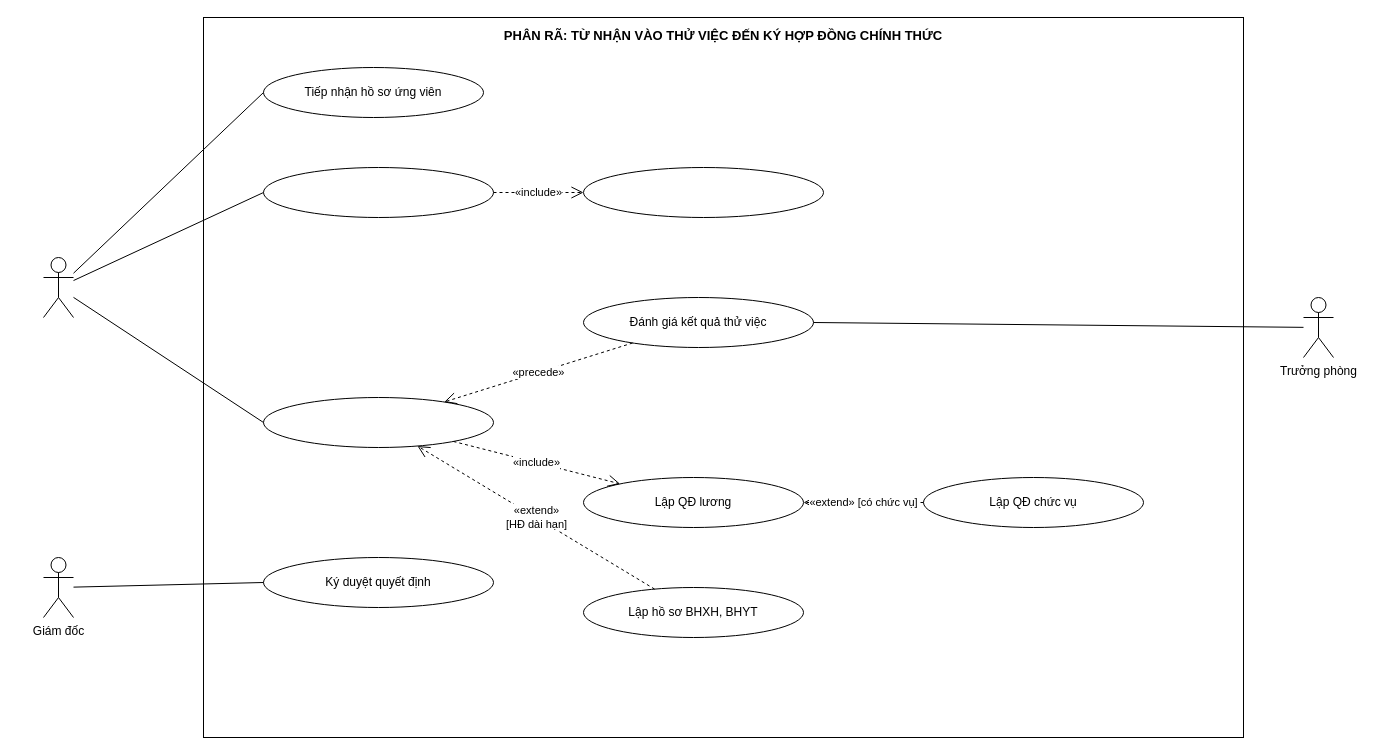
Image size: 1374x755. Some labels were removed from this diagram. The box of each missing label's shape, as (x1, y1, x2, y2) in pixels:
Chọn phòng ban, mức lương TV: (582, 166, 824, 218)
Lập hợp đồng lao động: (262, 396, 494, 448)
Lập QĐ tuyển dụng (thử việc): (262, 166, 494, 218)
Phòng nhân sự: (42, 256, 74, 318)
